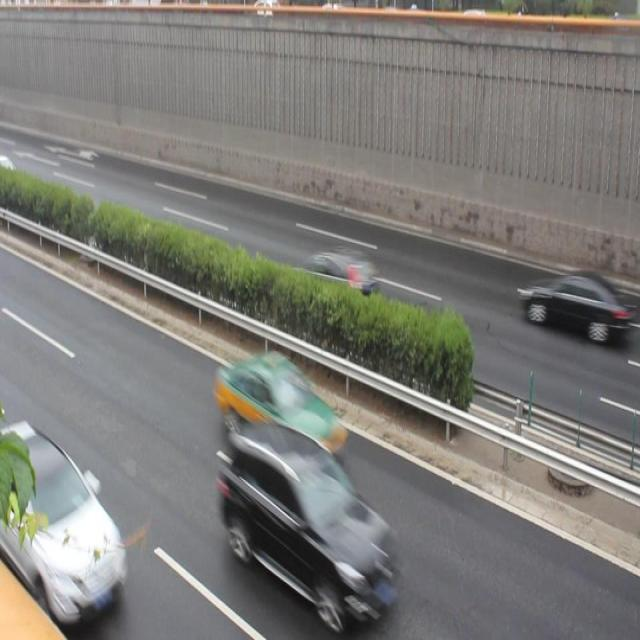car: (217, 422, 398, 614), (1, 417, 122, 611), (215, 346, 346, 454), (520, 267, 624, 343), (288, 248, 376, 310)
